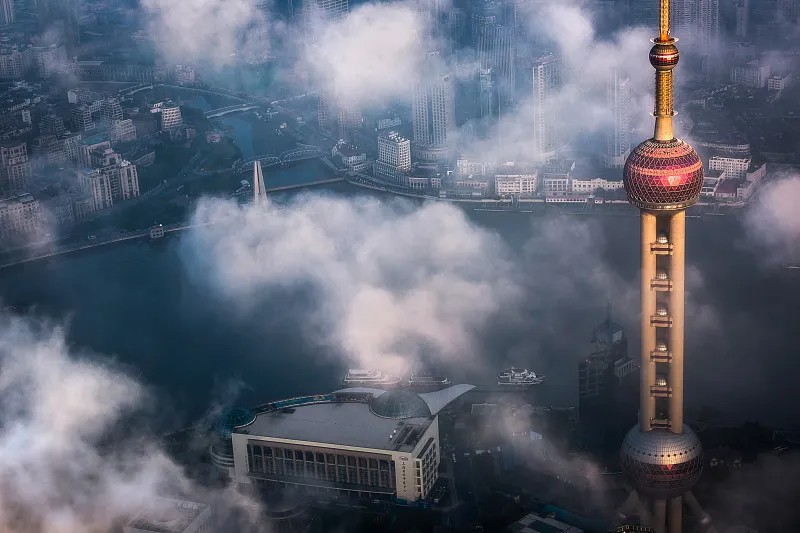Oriental: (619, 1, 715, 533)
